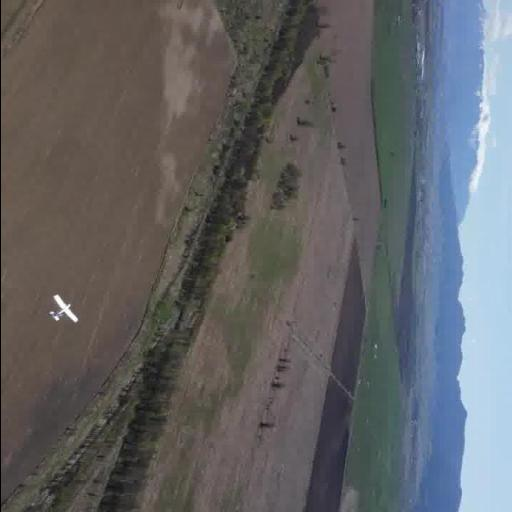uav: (41, 292, 79, 328)
